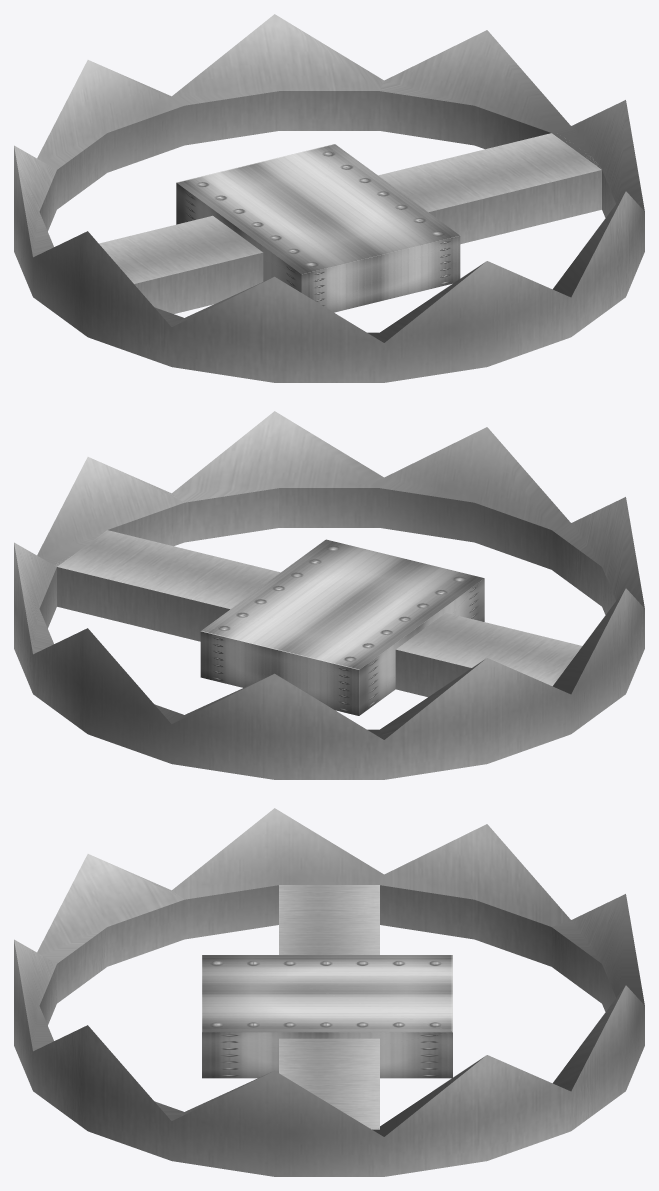
The model's file is BearClaw_Prefab.fbx.
3 renders of one model, top to bottom at view 1: azimuth 30°, elevation 25°; view 2: azimuth 150°, elevation 25°; view 3: azimuth 270°, elevation 25°, orthographic.
Parts seen in each view (by area): view 1: Tube001, Box001; view 2: Tube001, Box001; view 3: Tube001, Box001.
Boxes of the visible parts, x1,y1,x2,y2 form: Tube001: (14, 14, 644, 382); Box001: (176, 144, 460, 312); Tube001: (14, 411, 644, 779); Box001: (200, 539, 484, 715); Tube001: (14, 808, 644, 1176); Box001: (202, 955, 452, 1078).
Bounding box in the file's own units: 46.88 × 47.6 × 8.85.
